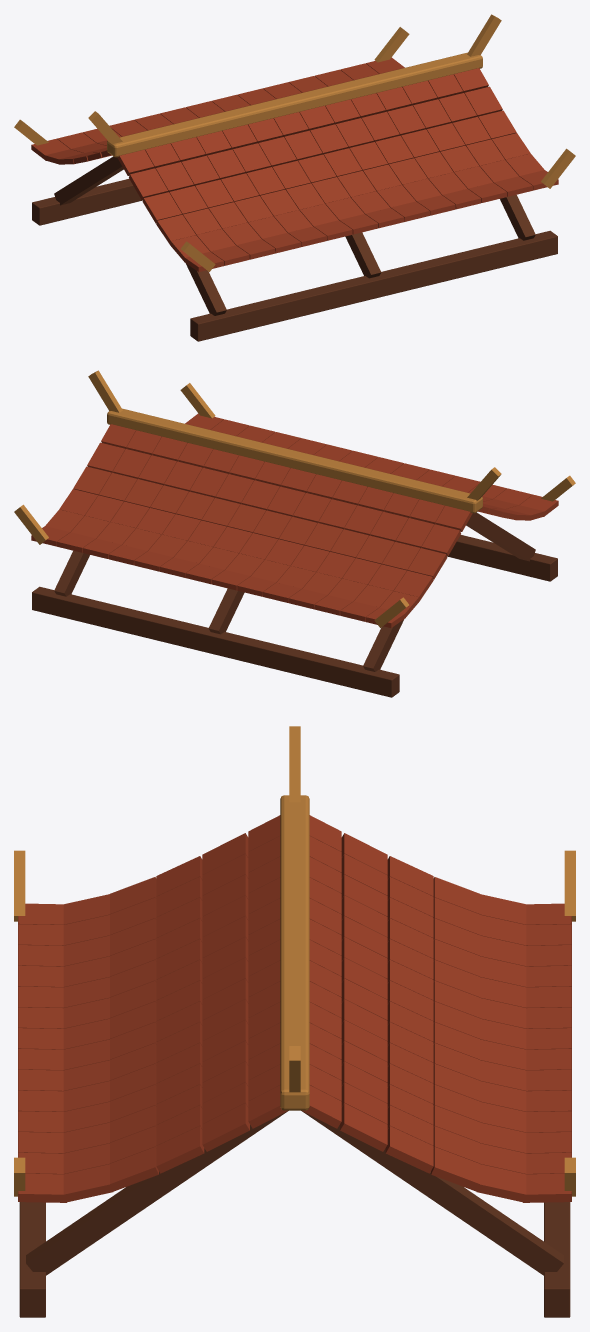
The picture shows the model from 3 angles, top to bottom: view 1: azimuth 30°, elevation 25°; view 2: azimuth 150°, elevation 25°; view 3: azimuth 270°, elevation 25°; orthographic projection. The views are drawn at different scales.
Parts seen in each view (by area): view 1: ROOF_EaveBeam, ROOF_Ridge, ROOF_EaveBeam.001, ROOF_Rafter.001, ROOF_Rafter, ROOF_Rafter.002, ROOF_Rafter.004, ROOF_Tile_-1_1_0, ROOF_Tile_-1_2_0, ROOF_Tile_-1_1_7, ROOF_Tile_-1_1_1, ROOF_Tile_-1_1_3 (+82 smaller); view 2: ROOF_EaveBeam.001, ROOF_Ridge, ROOF_EaveBeam, ROOF_Rafter, ROOF_Rafter.001, ROOF_Rafter.003, ROOF_Rafter.005, ROOF_Tile_1_1_0, ROOF_Tile_1_2_0, ROOF_Tile_1_1_7, ROOF_Tile_1_1_1, ROOF_Tile_1_1_3 (+82 smaller); view 3: ROOF_Ridge, ROOF_Rafter.004, ROOF_Rafter.005, ROOF_EaveBeam, ROOF_EaveBeam.001, ROOF_Tile_-1_2_13, ROOF_Tile_1_2_13, ROOF_Tile_-1_1_13, ROOF_Tile_1_1_13, ROOF_Tile_-1_3_13, ROOF_Tile_1_3_13, ROOF_Tile_-1_4_13 (+138 smaller).
Part boxes in pixels (box(x1,y1,x2,y2)): ROOF_EaveBeam: box(190, 230, 557, 341); ROOF_Ridge: box(107, 52, 482, 157); ROOF_EaveBeam.001: box(32, 179, 142, 225); ROOF_Rafter.001: box(54, 156, 123, 205); ROOF_Rafter: box(186, 263, 226, 315); ROOF_Rafter.002: box(345, 232, 381, 278); ROOF_Rafter.004: box(500, 195, 535, 240); ROOF_Tile_-1_1_0: box(129, 168, 167, 199); ROOF_Tile_-1_2_0: box(142, 192, 181, 223); ROOF_Tile_-1_1_7: box(310, 124, 348, 154); ROOF_Tile_-1_1_1: box(155, 162, 193, 192); ROOF_Tile_-1_1_3: box(207, 149, 245, 179); ROOF_EaveBeam.001: box(32, 586, 399, 697); ROOF_Ridge: box(107, 408, 482, 513); ROOF_EaveBeam: box(447, 535, 557, 581); ROOF_Rafter: box(466, 512, 535, 561); ROOF_Rafter.001: box(363, 619, 403, 671); ROOF_Rafter.003: box(208, 588, 244, 634); ROOF_Rafter.005: box(54, 551, 89, 596); ROOF_Tile_1_1_0: box(422, 524, 460, 555); ROOF_Tile_1_2_0: box(408, 548, 447, 579); ROOF_Tile_1_1_7: box(241, 480, 279, 510); ROOF_Tile_1_1_1: box(396, 518, 434, 548); ROOF_Tile_1_1_3: box(344, 505, 382, 535); ROOF_Ridge: box(280, 795, 309, 1110); ROOF_Rafter.004: box(26, 1110, 288, 1275); ROOF_Rafter.005: box(301, 1110, 563, 1275); ROOF_EaveBeam: box(19, 1202, 45, 1317); ROOF_EaveBeam.001: box(544, 1202, 570, 1317); ROOF_Tile_-1_2_13: box(156, 1126, 204, 1173); ROOF_Tile_1_2_13: box(385, 1126, 433, 1173); ROOF_Tile_-1_1_13: box(202, 1103, 249, 1151); ROOF_Tile_1_1_13: box(340, 1103, 387, 1151); ROOF_Tile_-1_3_13: box(110, 1147, 158, 1191); ROOF_Tile_1_3_13: box(431, 1147, 479, 1191); ROOF_Tile_-1_4_13: box(63, 1164, 113, 1202).
Bounding box in the file's own units: 4.78 × 1.93 × 3.43.
